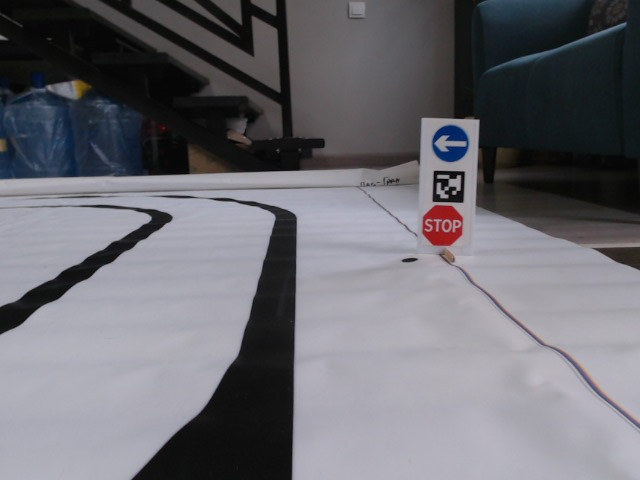Stop: (421, 202, 463, 248)
